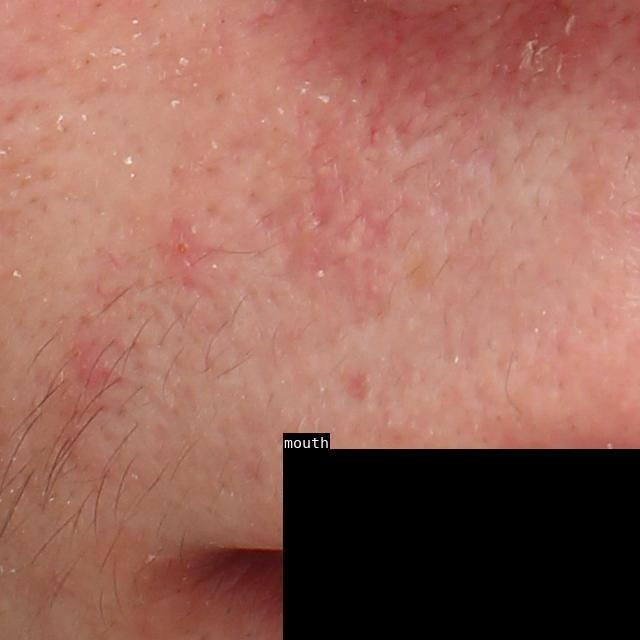atrophic_scar: (299, 166, 335, 238), (344, 372, 372, 403)
